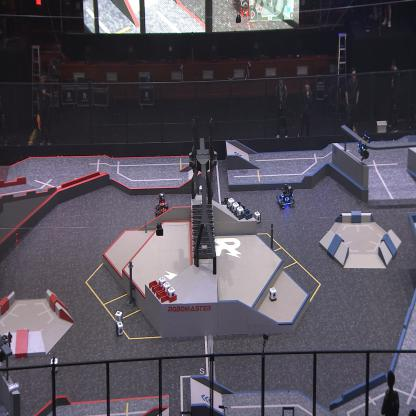car: (153, 189, 170, 221), (276, 183, 294, 209)
